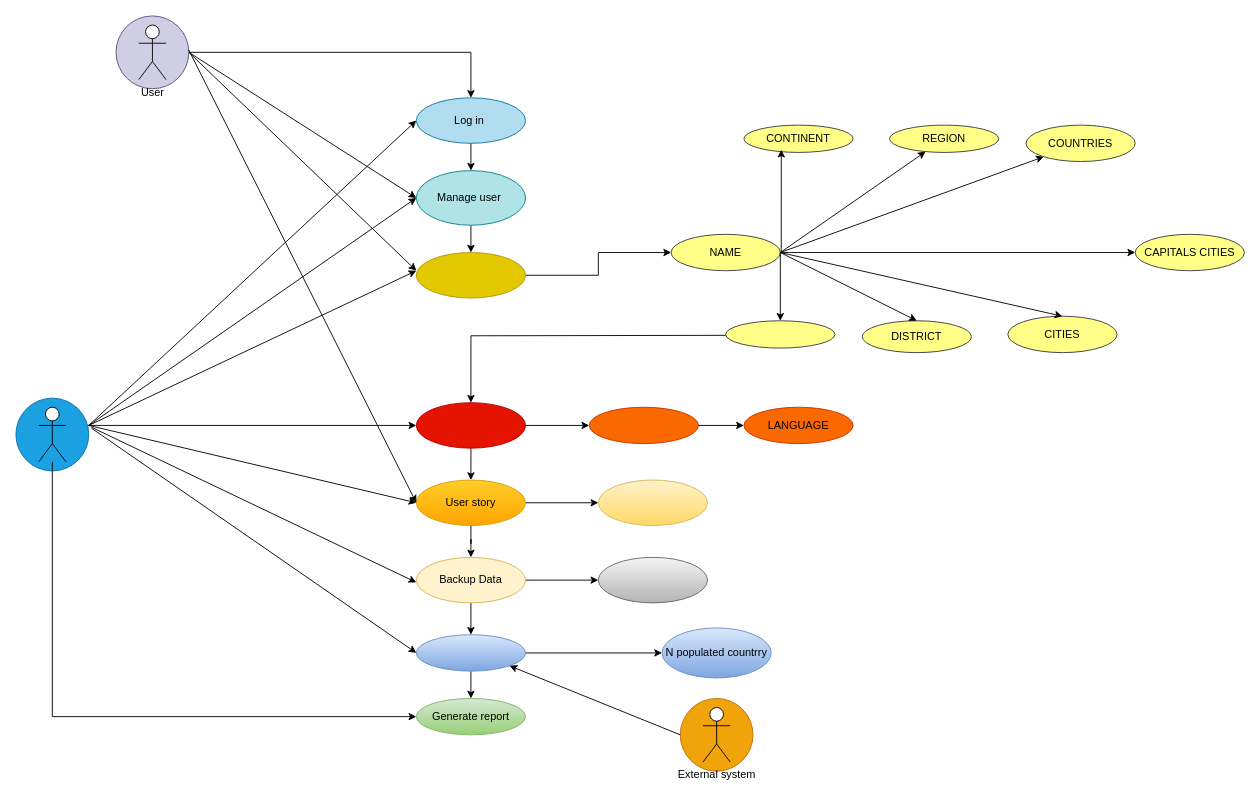
Image size: 1260x797. Some labels were removed from this diagram. The centre of each missing label's shape, as x and y in pixels:
"Admin" belongs at (52,434).
"COUNTRY" belongs at (643,425).
"country code" belongs at (780,334).
"Manage task" belongs at (470,275).
"REPORTS" belongs at (652,579).
"REQUIRMENTS" belongs at (652,502).
"Sync data" belongs at (470,652).
"Update database" belongs at (470,425).
